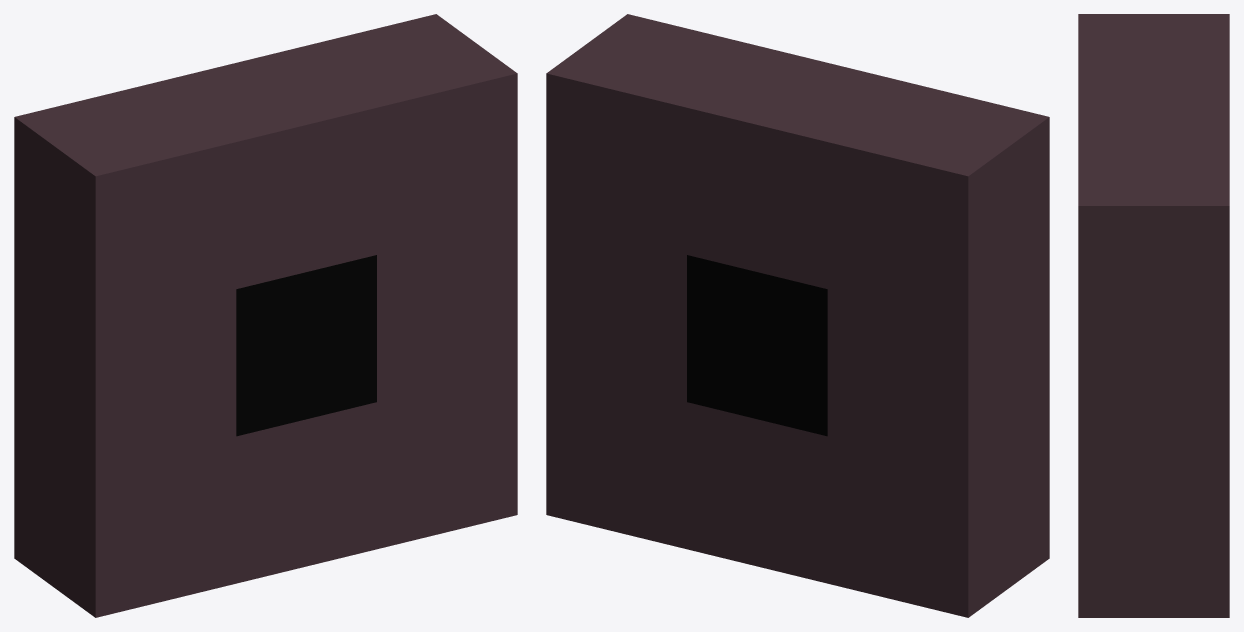
The model's file is wall_trap_b.obj.
3 renders of one model, left to right at view 1: azimuth 30°, elevation 25°; view 2: azimuth 150°, elevation 25°; view 3: azimuth 270°, elevation 25°, orthographic. The views are drawn at different scales.
Bounding box in the file's own units: 0.3 × 0.3 × 0.1.
1 material, 1 textured.
